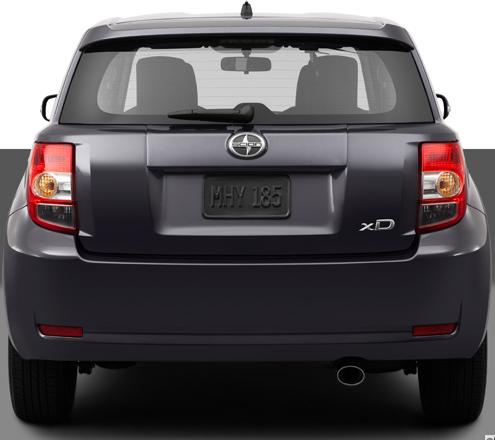back_view: (30, 133, 484, 367)
backlight: (406, 131, 472, 247)
